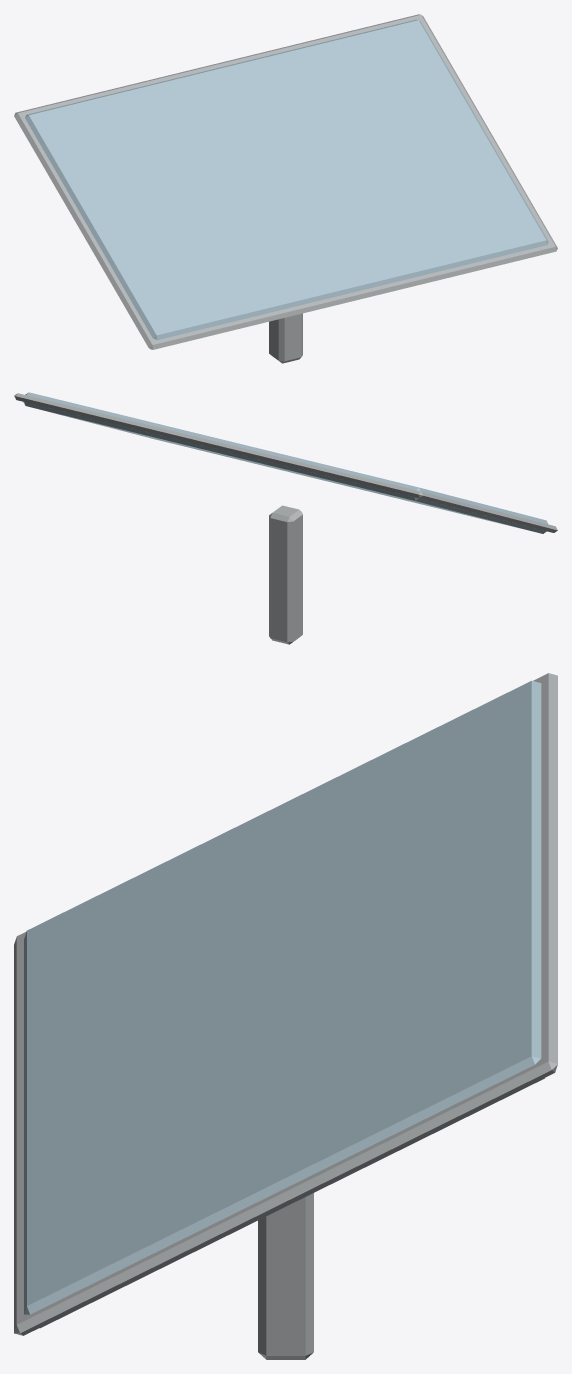
File: solar.glb
3 views of the same model, one above another, from view 1: azimuth 30°, elevation 25°; view 2: azimuth 150°, elevation 25°; view 3: azimuth 270°, elevation 25° (orthographic). The views are drawn at different scales.
Parts seen in each view (by area): view 1: panel, frame, stand; view 2: panel, stand, frame; view 3: panel, frame, stand.
Boxes of the visible parts, <box> form: panel: <box>25,19,548,339</box>; frame: <box>14,14,557,349</box>; stand: <box>269,313,302,363</box>; panel: <box>23,392,548,533</box>; stand: <box>269,505,302,644</box>; frame: <box>14,393,557,532</box>; panel: <box>24,680,544,1328</box>; frame: <box>14,673,557,1335</box>; stand: <box>258,1193,313,1359</box>.
Bounding box in the file's own units: 1.34 × 0.7673 × 0.781.
